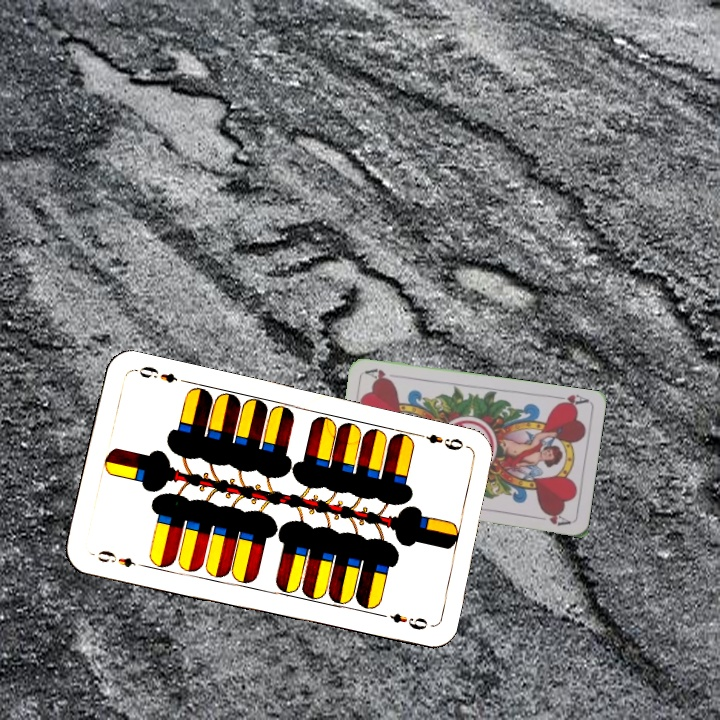E9: (413, 429, 471, 453), (94, 546, 138, 570)
HA: (550, 391, 591, 410)
